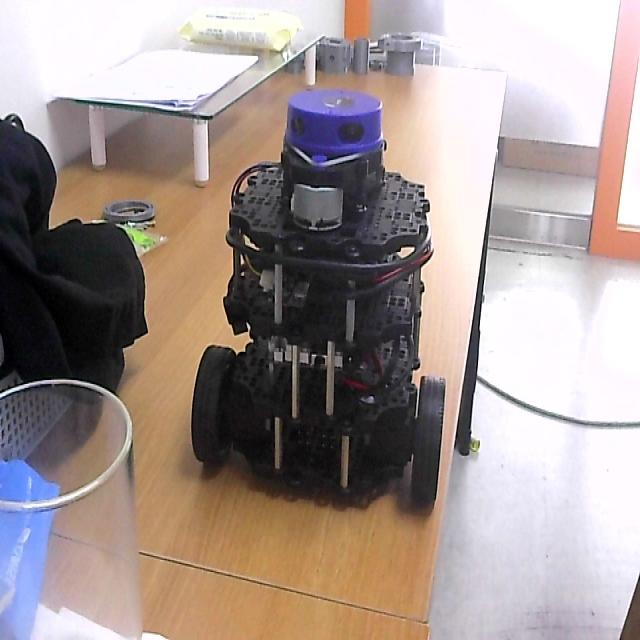turtle: (188, 86, 450, 516)
